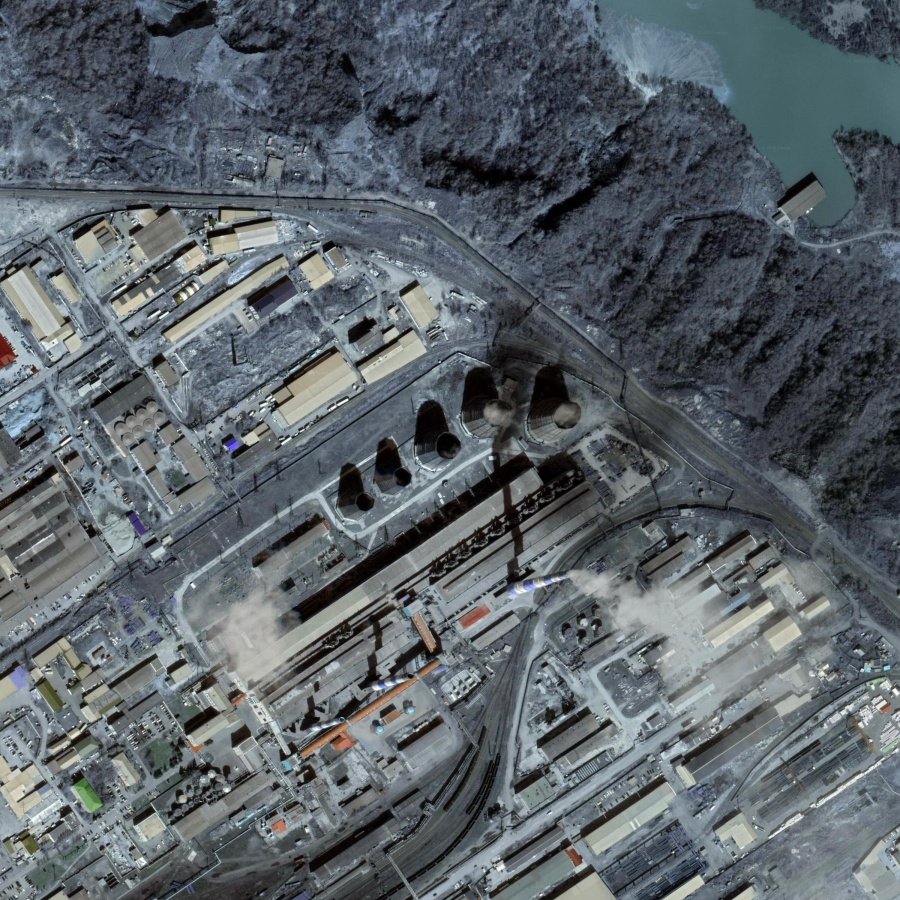PowerPlant: (238, 343, 685, 713)
